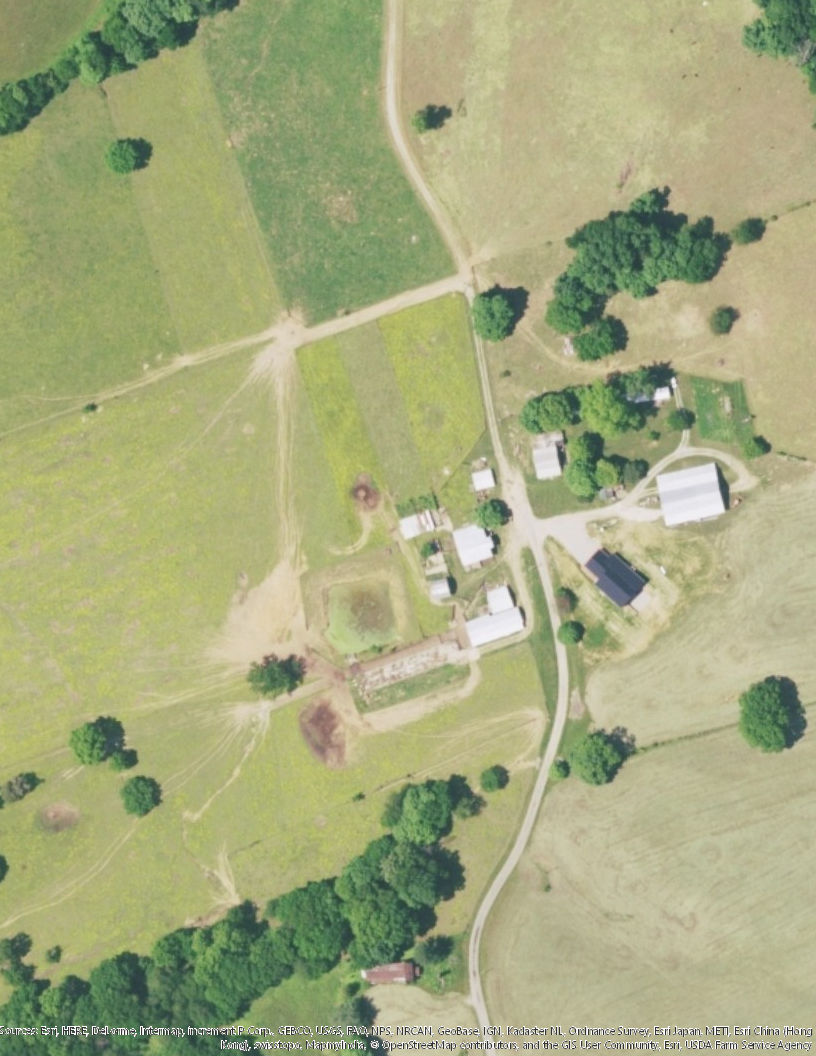cafo: (346, 626, 467, 694), (465, 581, 526, 650)
